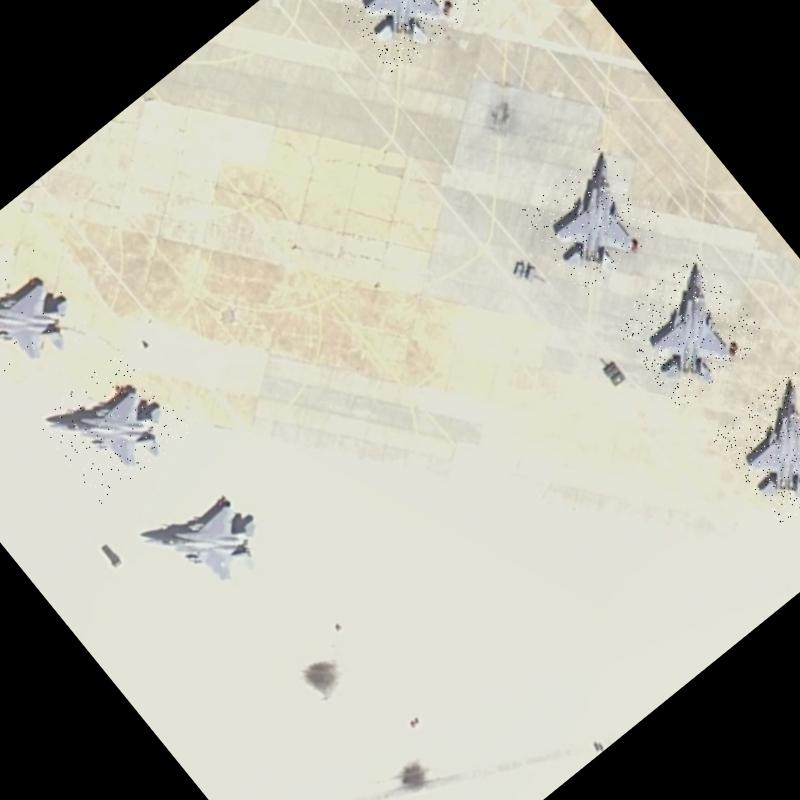A13: (608, 250, 768, 410), (34, 347, 192, 504), (127, 457, 284, 613), (518, 144, 670, 297), (0, 238, 97, 393), (708, 367, 800, 526), (317, 0, 488, 77)
